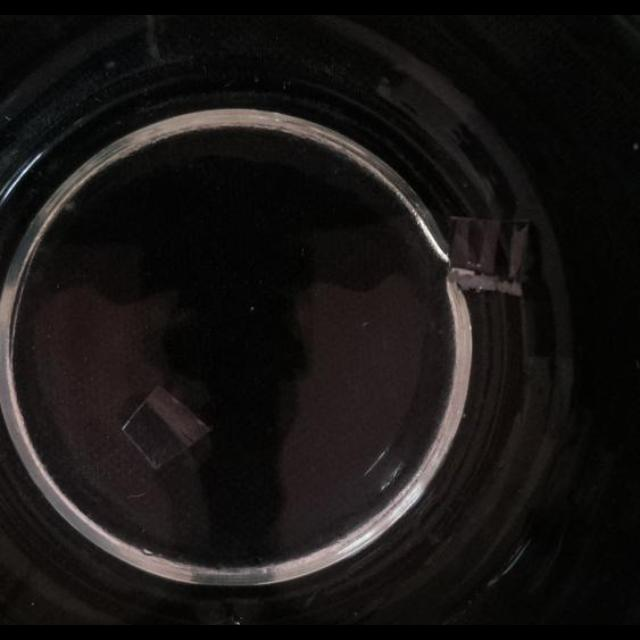Film: (444, 210, 538, 302), (120, 382, 214, 472)
